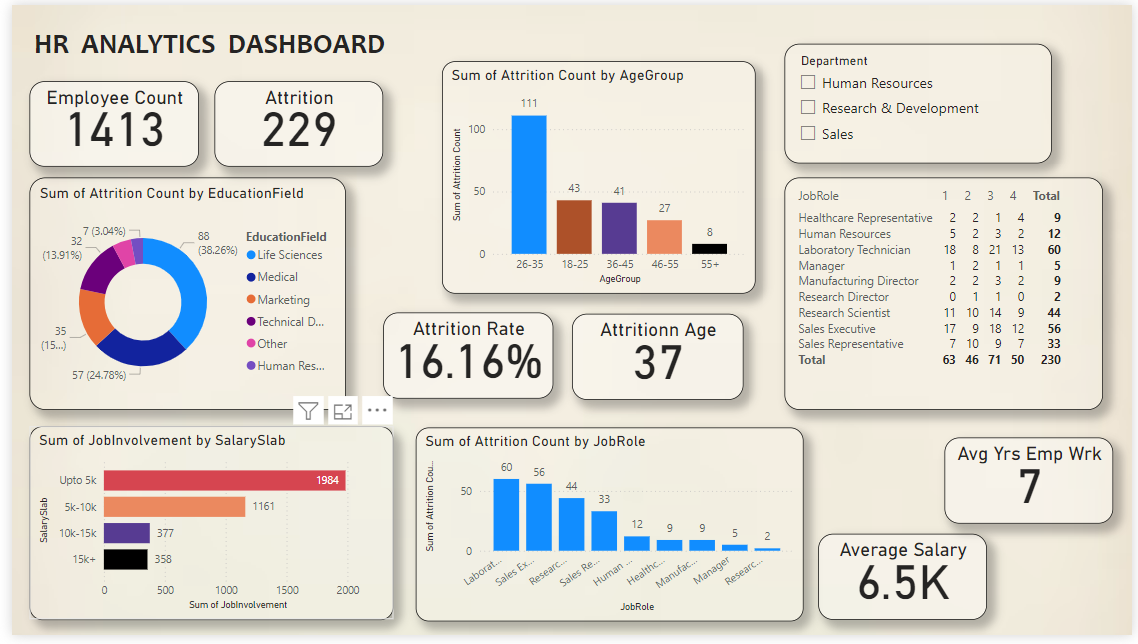

Layout of this report page (visuals, bound fields, positions):
{"tool":"powerbi","page":{"name":"Page 1","canvas":[1280,720],"ordinal":0},"visuals":[{"type":"textbox","box":[20,20,662.8,49],"z":0},{"type":"card","title":"Employee Count","fields":{"Values":["Count(HR_Analytics.EmpID)"]},"box":[20,87.5,193.8,97.5],"z":1000},{"type":"card","title":"Attrition","fields":{"Values":["Count(HR_Analytics.EmpID)"]},"box":[231.2,87.5,192.5,97.5],"z":2000},{"type":"card","title":"Attrition Rate","fields":{"Values":["HR_Analytics.Attrition Rate"]},"box":[436.2,87.5,193.8,97.5],"z":3000},{"type":"card","title":"Attritionn Age","fields":{"Values":["Avg(HR_Analytics.Age)"]},"box":[640,87.5,195,97.5],"z":4000},{"type":"card","title":"Average Salary","fields":{"Values":["Avg(HR_Analytics.MonthlyIncome)"]},"box":[846.2,87.5,192.5,97.5],"z":5000},{"type":"card","title":"Avg Yrs Emp Wrk","fields":{"Values":["Avg(HR_Analytics.YearsAtCompany)"]},"box":[1056.2,87.5,192.5,97.5],"z":6000},{"type":"donutChart","fields":{"Category":["HR_Analytics.EducationField"],"Y":["Sum(HR_Analytics.Attrition Count)"]},"box":[20,197.1,361.4,265.7],"z":7000},{"type":"clusteredColumnChart","fields":{"Y":["Sum(HR_Analytics.Attrition Count)"],"Category":["HR_Analytics.AgeGroup"]},"box":[435.7,197.1,358.6,265.7],"z":8000},{"type":"pivotTable","fields":{"Rows":["HR_Analytics.JobRole"],"Columns":["HR_Analytics.JobSatisfaction"],"Values":["Sum(HR_Analytics.Attrition Count)"]},"box":[845.7,197.1,364.3,265.7],"z":9000},{"type":"clusteredBarChart","fields":{"Y":["Sum(HR_Analytics.JobInvolvement)"],"Category":["HR_Analytics.SalarySlab"]},"box":[20,481.4,415.7,221.4],"z":10000},{"type":"columnChart","fields":{"Category":["HR_Analytics.JobRole"],"Y":["Sum(HR_Analytics.Attrition Count)"]},"box":[461.4,482.9,442.9,221.4],"z":11000},{"type":"slicer","fields":{"Values":["HR_Analytics.Department"]},"box":[929.8,484.5,305.9,136.7],"z":11001}]}

Visuals, with their boxes in screenshot pixels (x1, y1, x2, y2), scaled from the page's 1280x720 canvas onto the 1138x644 screenshot:
textbox: {"left": 18, "top": 18, "right": 607, "bottom": 62}
"Employee Count" card: {"left": 18, "top": 78, "right": 190, "bottom": 165}
"Attrition" card: {"left": 206, "top": 78, "right": 377, "bottom": 165}
"Attrition Rate" card: {"left": 388, "top": 78, "right": 560, "bottom": 165}
"Attritionn Age" card: {"left": 569, "top": 78, "right": 742, "bottom": 165}
"Average Salary" card: {"left": 752, "top": 78, "right": 923, "bottom": 165}
"Avg Yrs Emp Wrk" card: {"left": 939, "top": 78, "right": 1110, "bottom": 165}
donutChart - HR_Analytics.EducationField x Sum(HR_Analytics.Attrition Count): {"left": 18, "top": 176, "right": 339, "bottom": 414}
clusteredColumnChart - Sum(HR_Analytics.Attrition Count) x HR_Analytics.AgeGroup: {"left": 387, "top": 176, "right": 706, "bottom": 414}
pivotTable - HR_Analytics.JobRole x HR_Analytics.JobSatisfaction: {"left": 752, "top": 176, "right": 1076, "bottom": 414}
clusteredBarChart - Sum(HR_Analytics.JobInvolvement) x HR_Analytics.SalarySlab: {"left": 18, "top": 431, "right": 387, "bottom": 629}
columnChart - HR_Analytics.JobRole x Sum(HR_Analytics.Attrition Count): {"left": 410, "top": 432, "right": 804, "bottom": 630}
slicer - HR_Analytics.Department: {"left": 827, "top": 433, "right": 1099, "bottom": 556}
